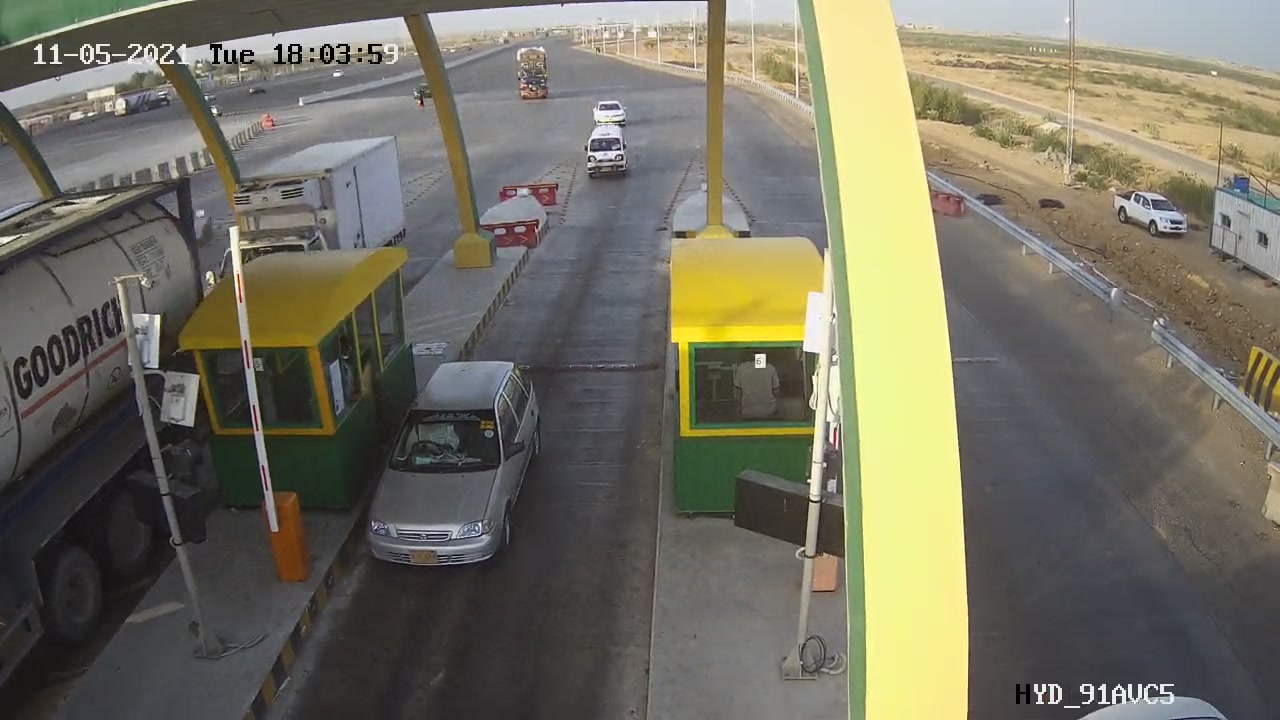F1: (340, 342, 559, 585)
